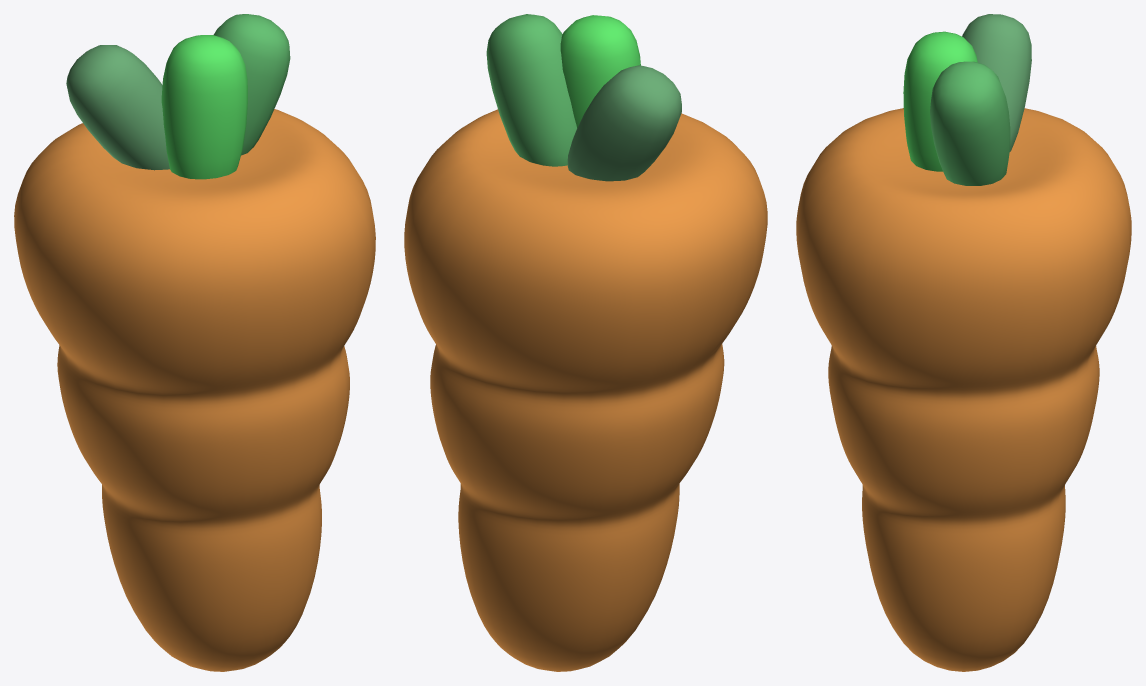
File: wortel.glb
3 views of the same model, side by side, from view 1: azimuth 30°, elevation 25°; view 2: azimuth 150°, elevation 25°; view 3: azimuth 270°, elevation 25° (orthographic). The views are drawn at different scales.
Visible parts, largest first — view 1: Kubus, Kubus.003, Kubus.001, Kubus.002; view 2: Kubus, Kubus.002, Kubus.001, Kubus.003; view 3: Kubus, Kubus.002, Kubus.003, Kubus.001.
Part boxes in pixels (<box>): Kubus: <box>14,109,375,671</box>; Kubus.003: <box>161,35,247,179</box>; Kubus.001: <box>66,45,169,170</box>; Kubus.002: <box>213,14,290,155</box>; Kubus: <box>404,109,767,671</box>; Kubus.002: <box>486,14,576,166</box>; Kubus.001: <box>567,65,681,181</box>; Kubus.003: <box>560,15,640,127</box>; Kubus: <box>796,108,1131,671</box>; Kubus.002: <box>930,61,1010,185</box>; Kubus.003: <box>903,31,977,171</box>; Kubus.001: <box>962,14,1031,151</box>.
Size of the model in its own units: 1.73 by 3.43 by 1.7.
